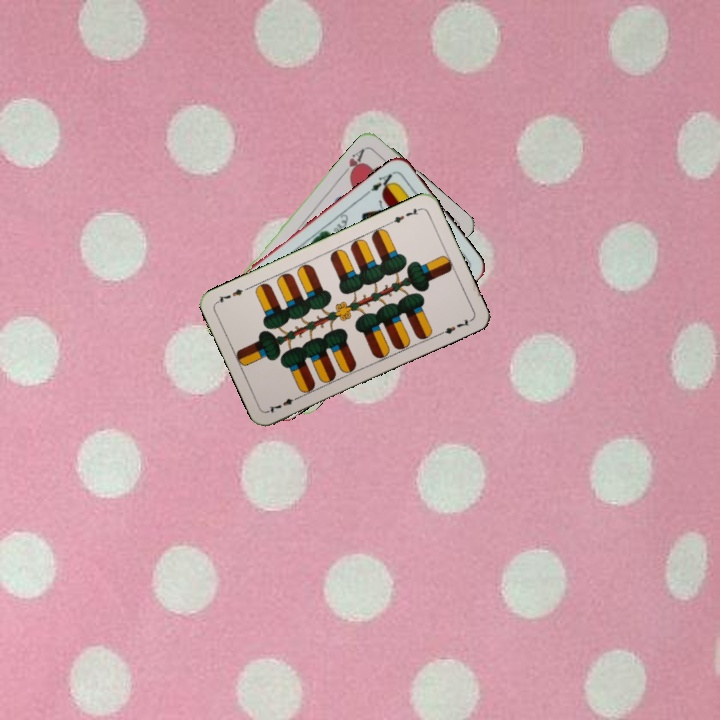E7: (385, 204, 424, 227), (264, 392, 302, 415)
EA: (362, 168, 397, 197)
HA: (338, 144, 368, 181)
